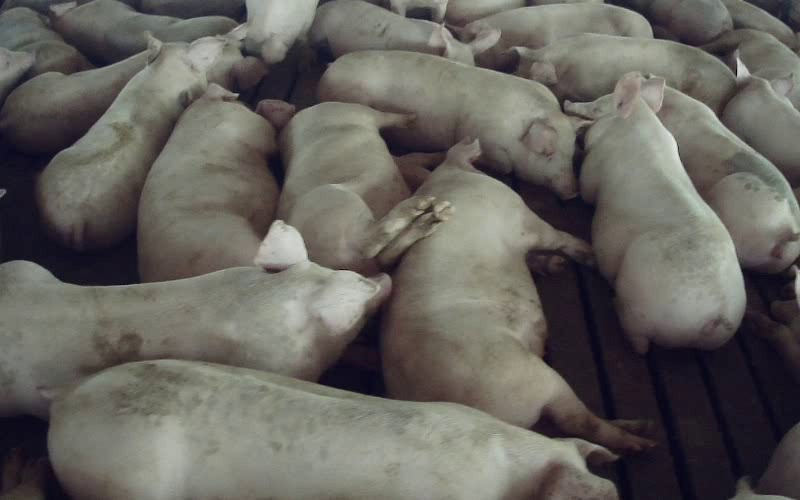pig: (381, 140, 651, 450), (50, 360, 616, 499), (0, 220, 389, 416), (580, 73, 744, 352), (37, 38, 223, 250), (320, 51, 576, 198), (257, 100, 450, 274), (138, 84, 278, 281), (657, 87, 799, 272), (513, 33, 736, 113), (0, 50, 148, 154), (309, 0, 499, 64), (51, 0, 237, 64), (722, 54, 799, 185), (463, 3, 652, 48), (225, 0, 318, 63)
